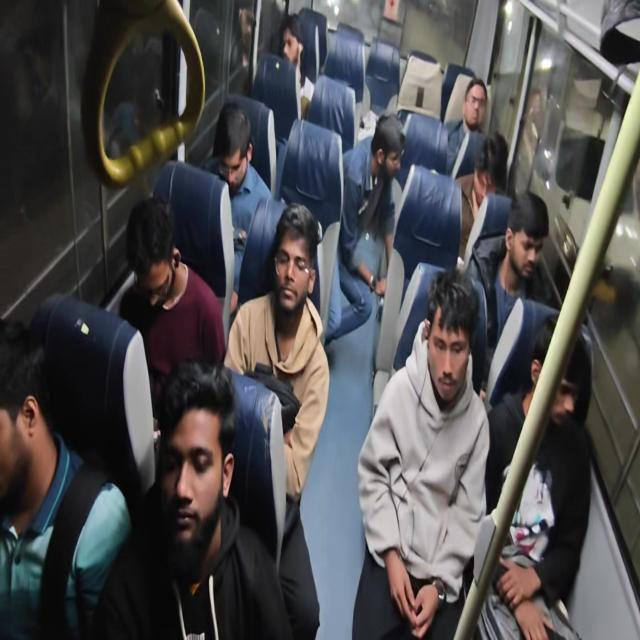person: (161, 352, 233, 557), (2, 312, 56, 503), (522, 315, 590, 445), (419, 266, 474, 404), (126, 183, 179, 319), (268, 203, 318, 314), (503, 183, 549, 289), (216, 100, 262, 200), (371, 115, 410, 196), (272, 8, 308, 83), (478, 133, 510, 193), (464, 70, 490, 140)
